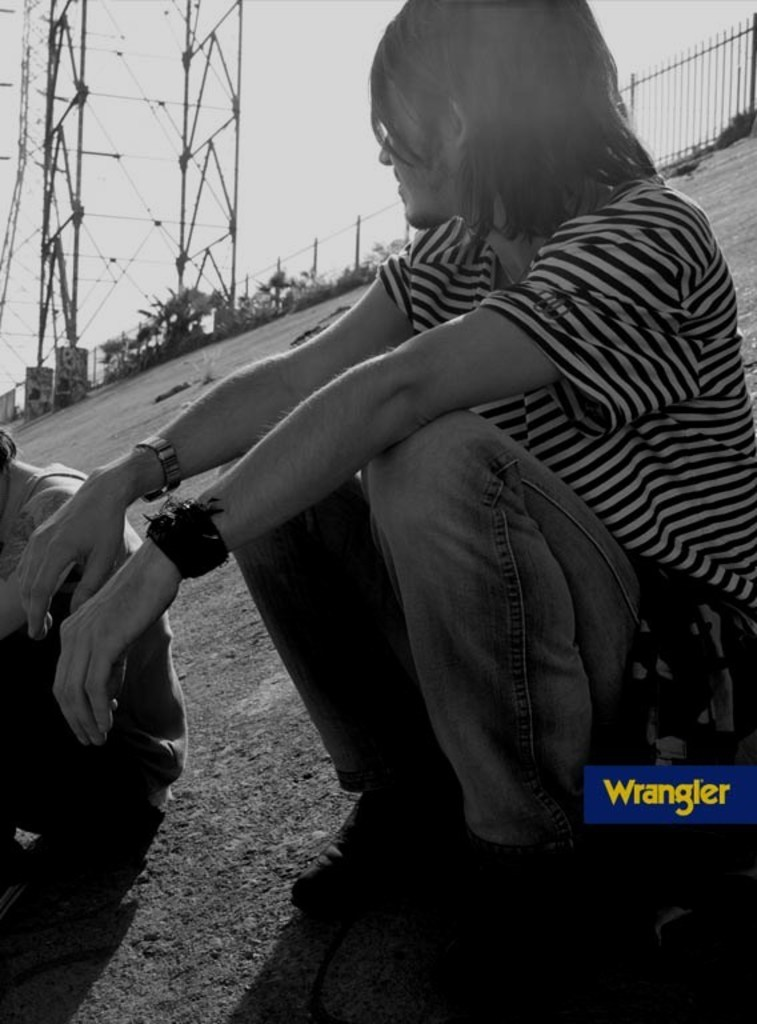Human_hand: (48, 537, 175, 747), (9, 464, 128, 641)
